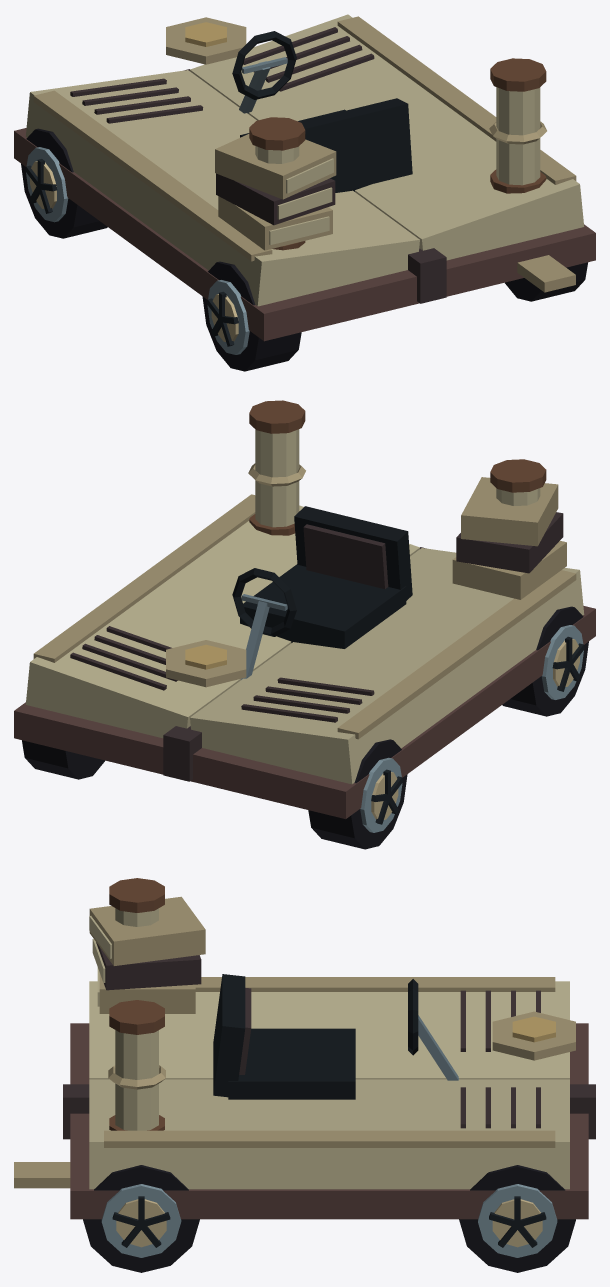
File: kart.glb
3 views of the same model, one above another, from view 1: azimuth 30°, elevation 25°; view 2: azimuth 150°, elevation 25°; view 3: azimuth 270°, elevation 25° (orthographic). The views are drawn at different scales.
Visible parts, largest first — view 1: identity-book-book-open-pages-and-spine, identity-book-motif-books, identity-book-driver-cockpit, identity-book-motif-scrolls, wheel-rear-left, wheel-front-left, identity-book-motif-badge, wheel-rear-right; view 2: identity-book-book-open-pages-and-spine, identity-book-driver-cockpit, identity-book-motif-books, identity-book-motif-scrolls, wheel-front-left, wheel-rear-left, identity-book-motif-badge, wheel-front-right; view 3: identity-book-book-open-pages-and-spine, identity-book-driver-cockpit, identity-book-motif-books, identity-book-motif-scrolls, wheel-front-right, wheel-rear-right, identity-book-motif-badge.
Boxes of the visible parts, left/top/right/bottom form: identity-book-book-open-pages-and-spine: left=14, top=14, right=595, bottom=341; identity-book-motif-books: left=215, top=134, right=336, bottom=250; identity-book-driver-cockpit: left=232, top=31, right=412, bottom=192; identity-book-motif-scrolls: left=249, top=58, right=546, bottom=250; wheel-rear-left: left=202, top=261, right=301, bottom=371; wheel-front-left: left=21, top=128, right=107, bottom=238; identity-book-motif-badge: left=166, top=17, right=246, bottom=64; wheel-rear-right: left=505, top=262, right=587, bottom=301; identity-book-book-open-pages-and-spine: left=14, top=494, right=595, bottom=819; identity-book-driver-cockpit: left=232, top=506, right=412, bottom=679; identity-book-motif-books: left=452, top=477, right=566, bottom=599; identity-book-motif-scrolls: left=248, top=400, right=546, bottom=535; wheel-front-left: left=308, top=739, right=407, bottom=849; wheel-rear-left: left=502, top=606, right=588, bottom=716; identity-book-motif-badge: left=166, top=640, right=246, bottom=687; wheel-front-right: left=22, top=740, right=104, bottom=779; identity-book-book-open-pages-and-spine: left=14, top=977, right=595, bottom=1219; identity-book-driver-cockpit: left=213, top=974, right=458, bottom=1099; identity-book-motif-books: left=89, top=896, right=205, bottom=1013; identity-book-motif-scrolls: left=108, top=878, right=165, bottom=1130; wheel-front-right: left=459, top=1165, right=575, bottom=1272; wheel-rear-right: left=83, top=1165, right=199, bottom=1272; identity-book-motif-badge: left=492, top=1011, right=575, bottom=1060.
Size of the model in its own units: 2.01 by 1.26 by 2.78.
